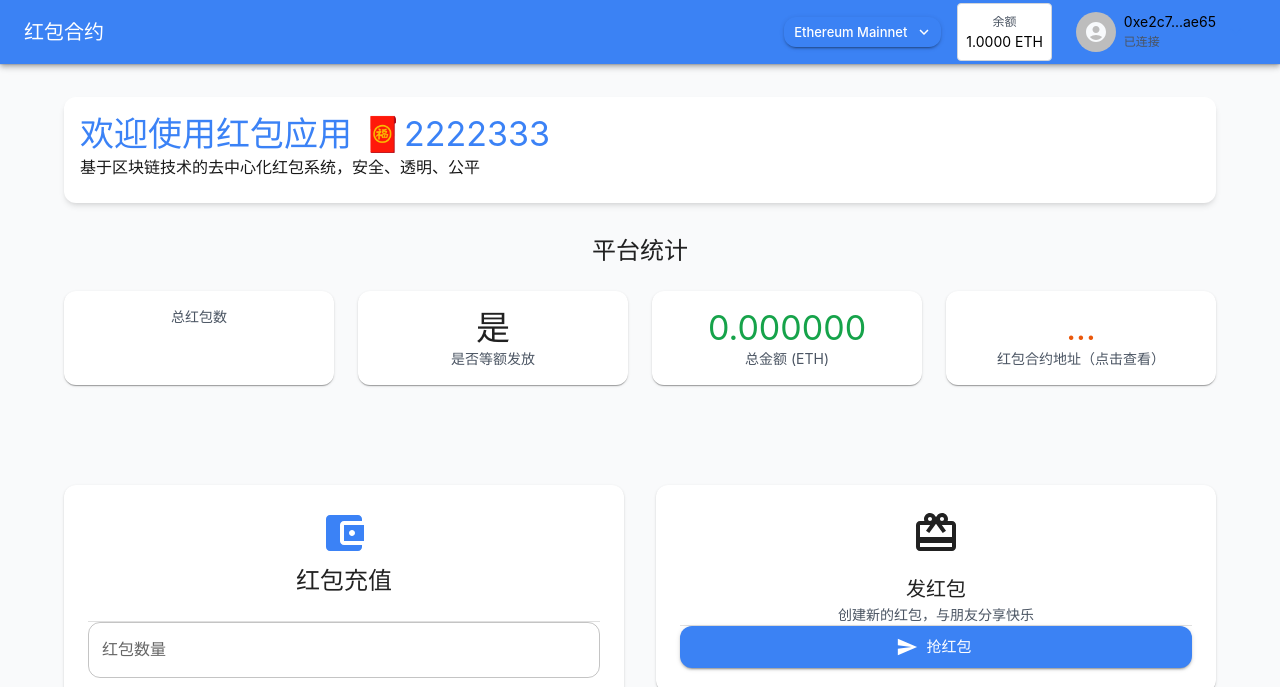
Web3钱包功能测试 › 红包合约功能测试 › 应该验证表单输入
In the number field labelled "红包数量": (344, 650) [88,622,600,678], type "0"
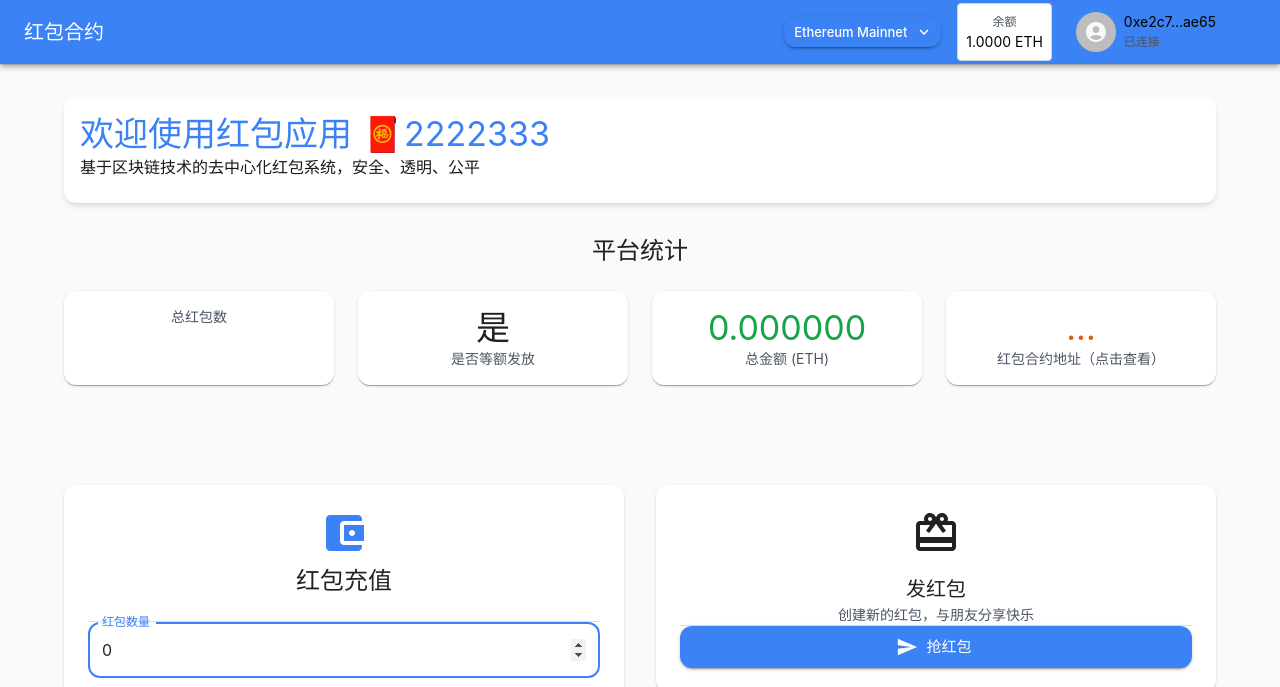
Scroll
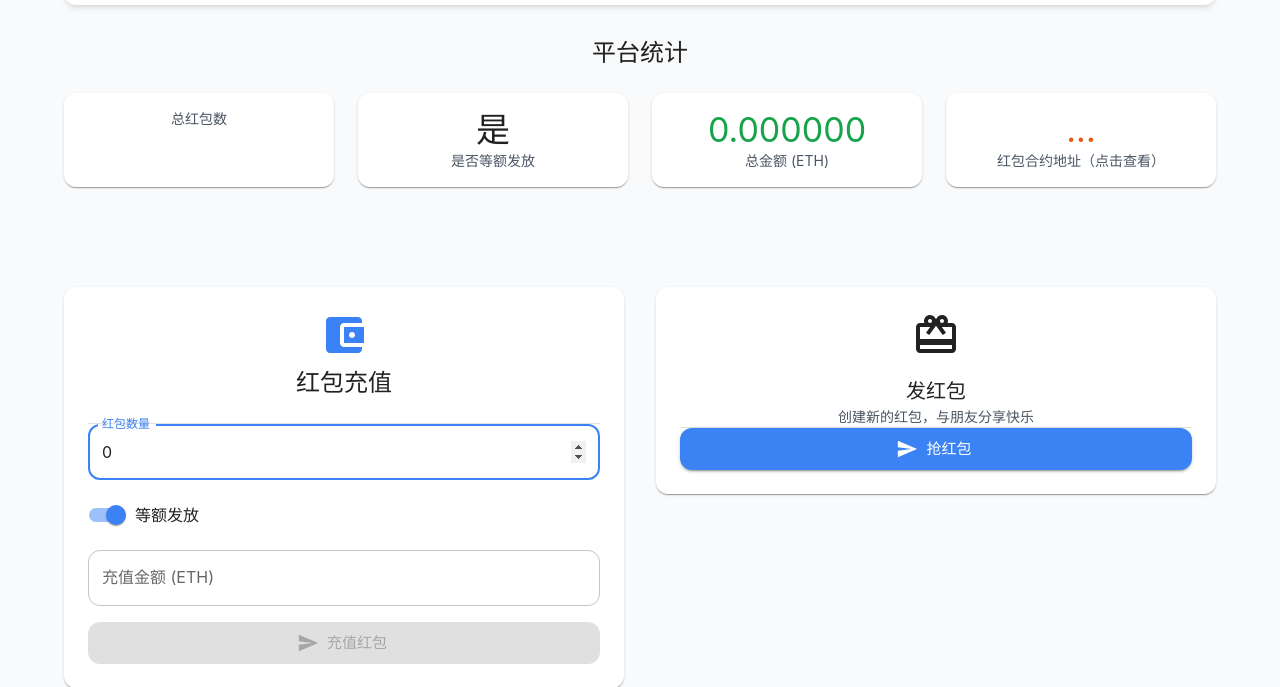
In the number field labelled "充值金额 (ETH)": (344, 578) [88,550,600,606], type "0"
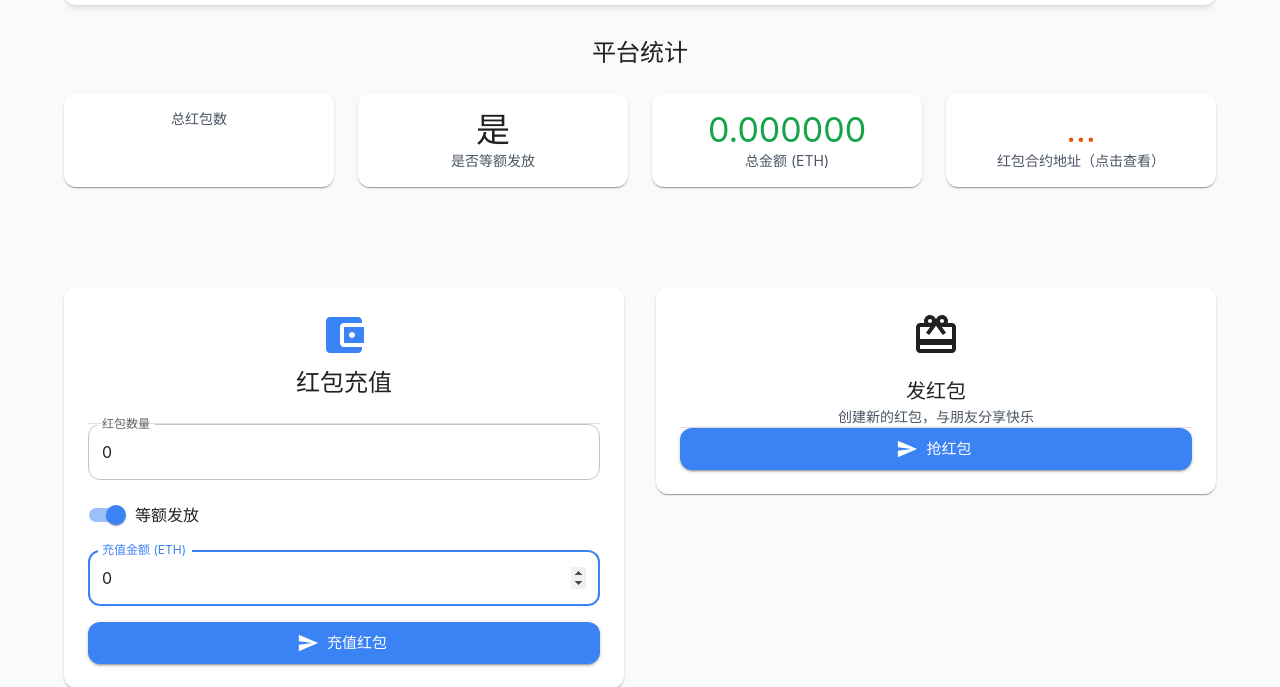
Click the button "充值红包": click(344, 643) [88,622,600,664]
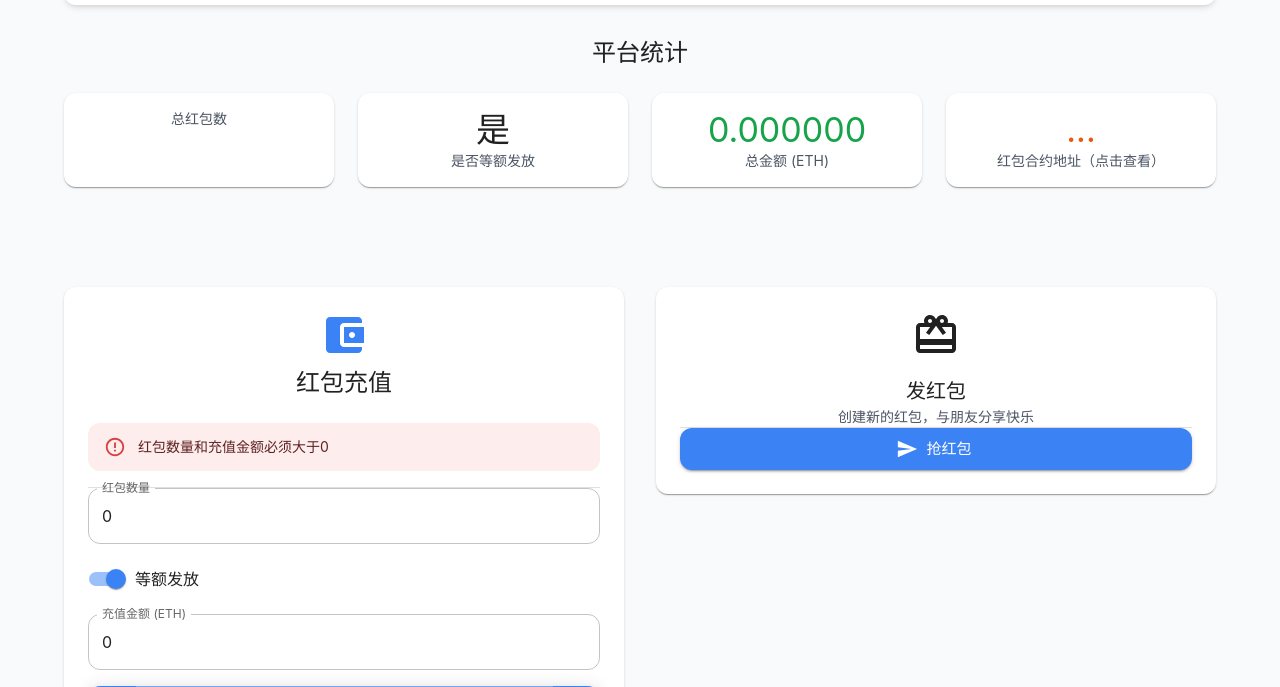
Now the text "红包数量和充值金额必须大于0" is shown, box [138,438,329,455]
